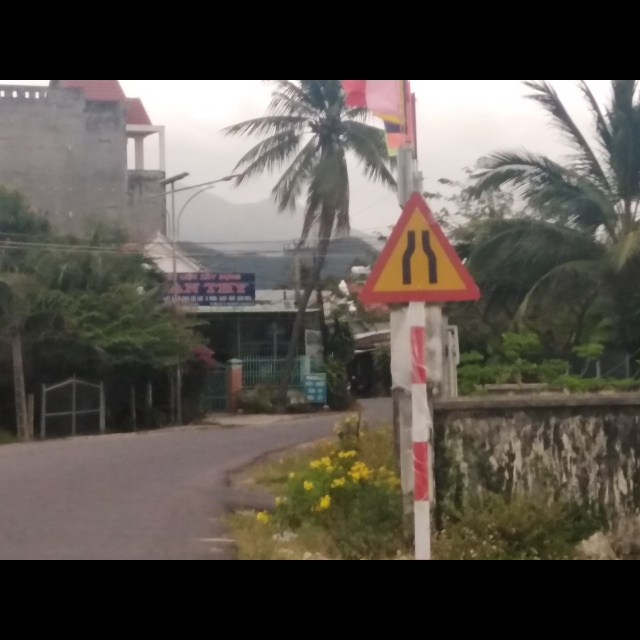Đường bị hẹp cả hai bên: (359, 190, 483, 305)
